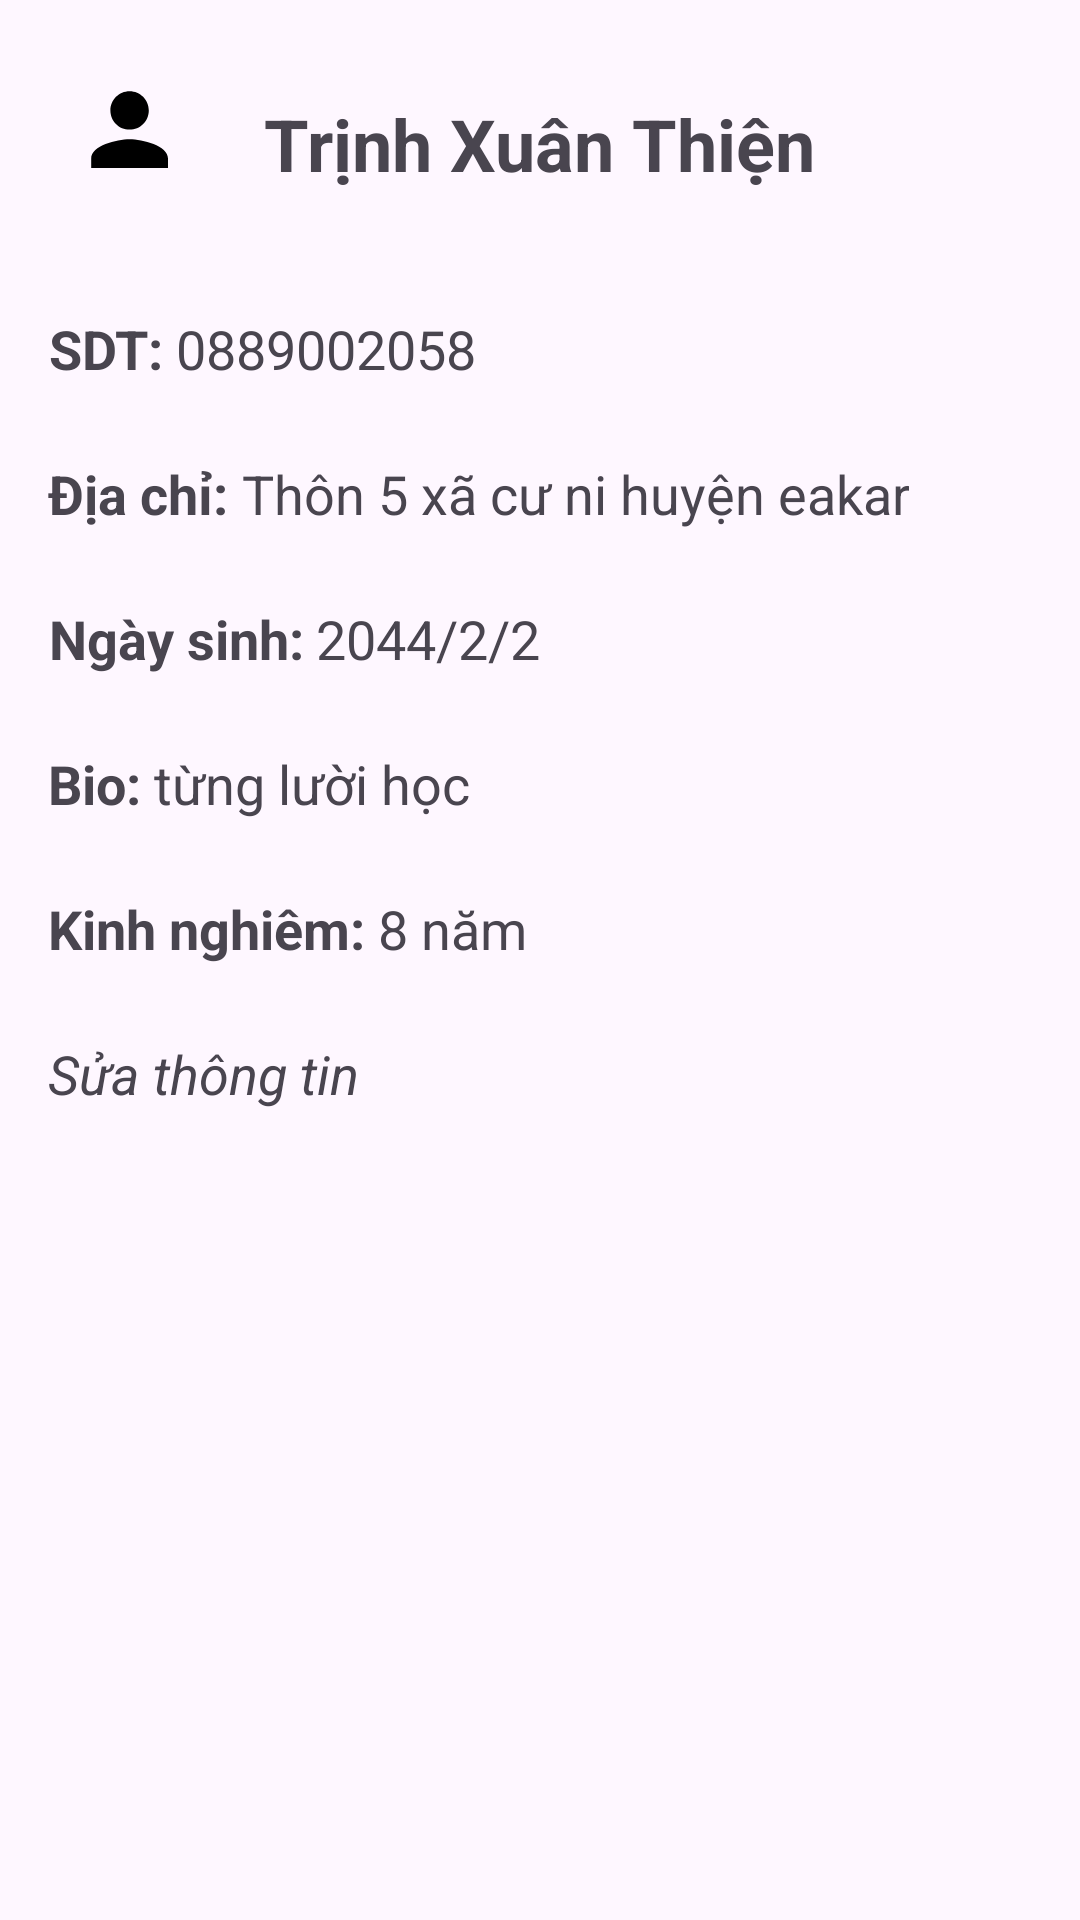

Locate icon controls on the screen. Image size 1080*1920, boxes as (x1, y1, x2, y2).
Ảnh đại diện gia sư: (91, 91, 168, 168)
